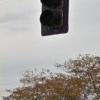Traffic light: (35, 0, 73, 46)
